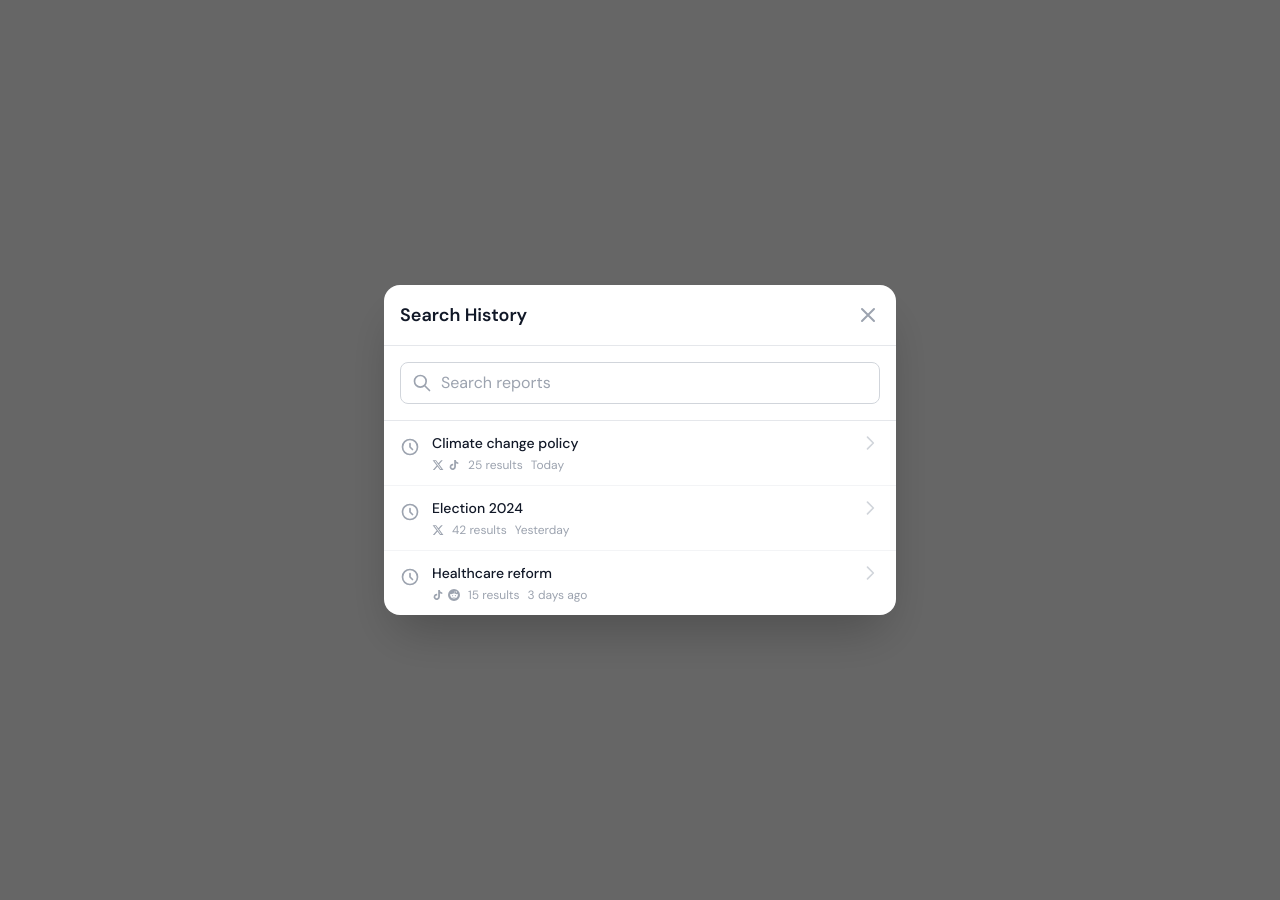
Scenario: SearchHistoryModal › Filtering › filters searches by query text
Expected: the list with test id "search-history-list" is shown, [384,421,896,615]
Expected: the text "Climate change policy" is shown, [432,434,578,452]
# Filter by "climate"
Type "climate" into the field with test id "search-history-filter-input". click: (640, 383)
box: [400,362,880,404]
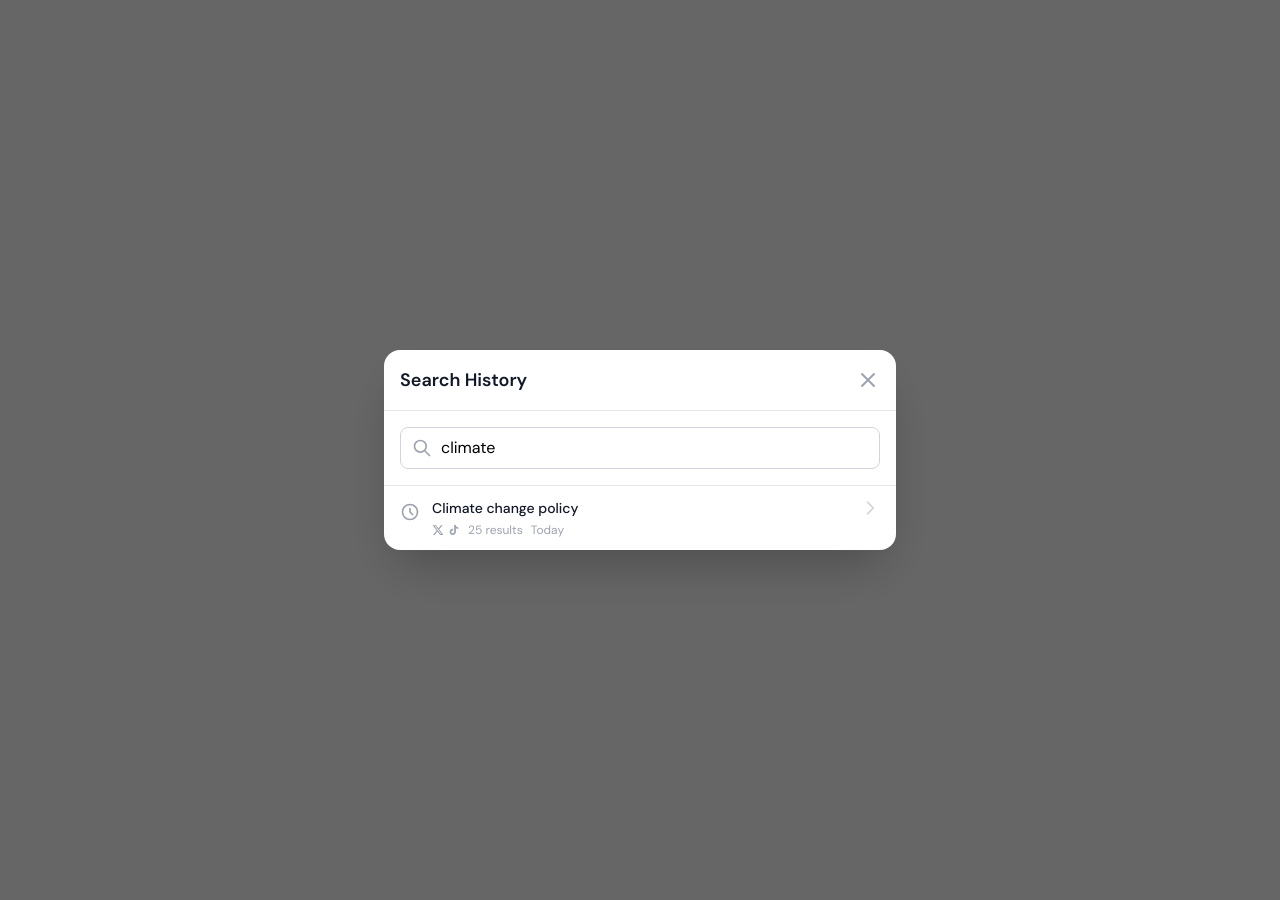
Expected: the text "Climate change policy" is shown, [432,499,578,517]
Expected: the button "Election 2024" is gone
Expected: the button "Healthcare reform" is gone
